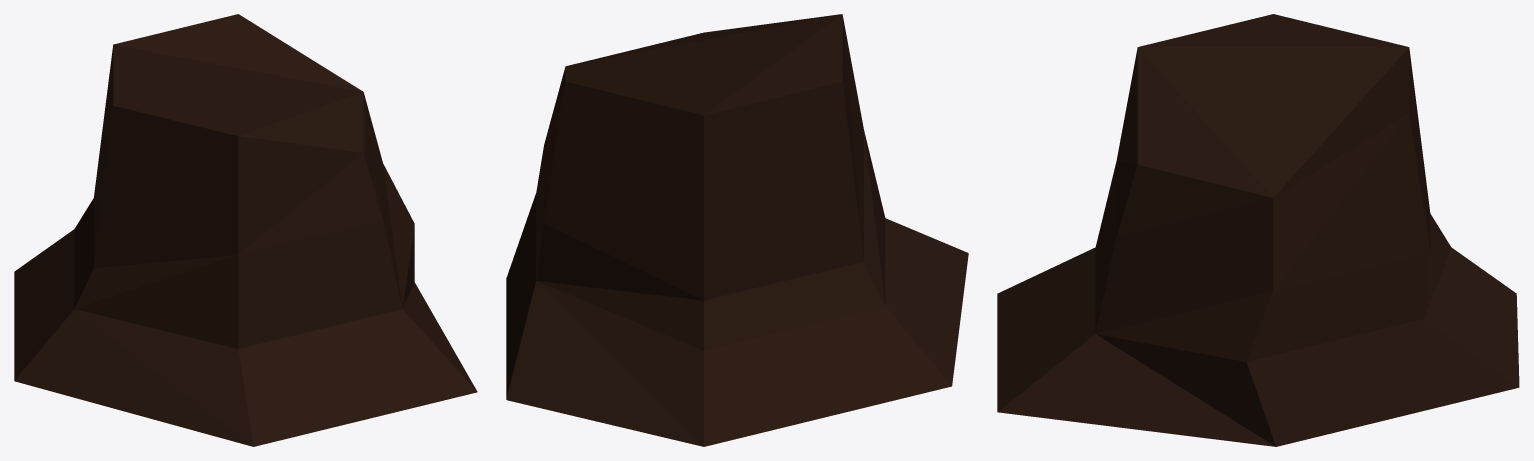
The model's file is kok_01.FBX.
The picture shows the model from 3 angles, left to right: view 1: azimuth 30°, elevation 25°; view 2: azimuth 150°, elevation 25°; view 3: azimuth 270°, elevation 25°; orthographic projection. The views are drawn at different scales.
Visible parts, largest first — view 1: Cylinder004; view 2: Cylinder004; view 3: Cylinder004.
Part boxes in pixels (bbox=[...]): Cylinder004: bbox=[14, 14, 477, 446]; Cylinder004: bbox=[506, 14, 968, 446]; Cylinder004: bbox=[997, 14, 1519, 446].
Bounding box in the file's own units: 45.39 × 27.13 × 47.07.
